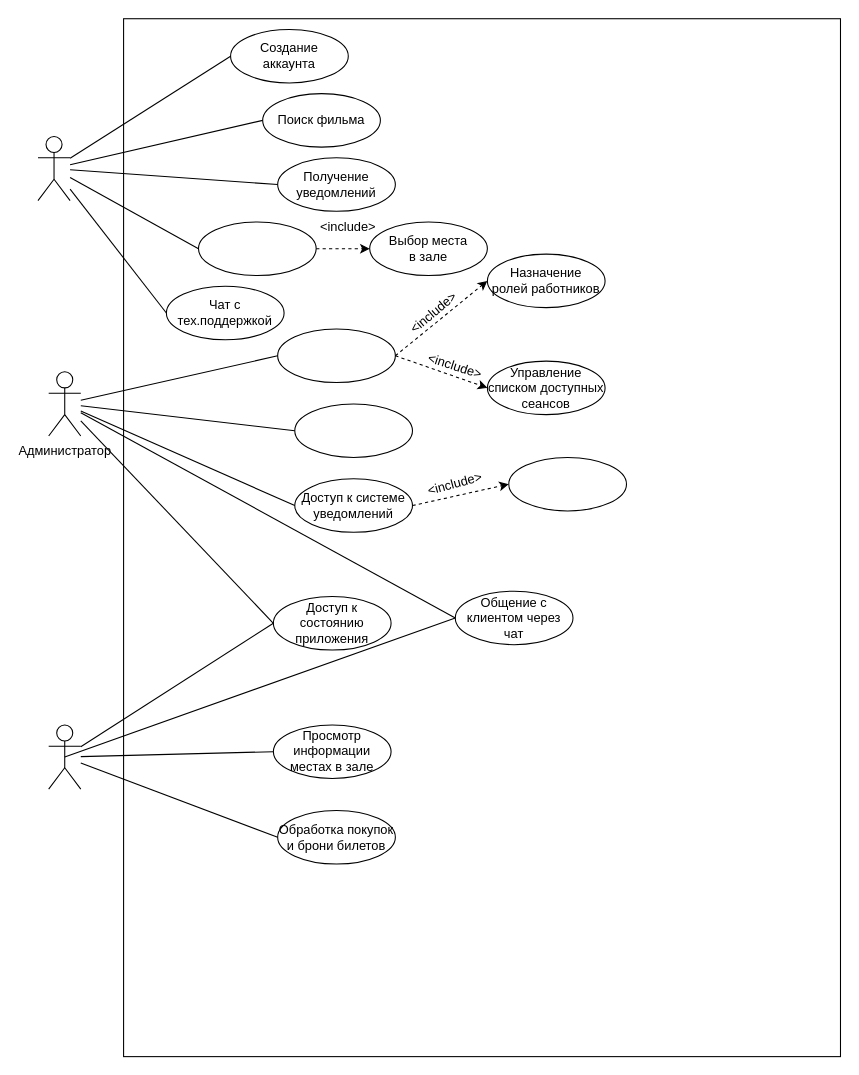
Image size: 859x1075. Some labels were removed from this diagram. The shapes that lost their labels are listed below. From the top down, each one's centre as x and y in pixels, then its label:
At (53,168): "Клиент".
At (256,248): "Бронирование билета".
At (336,355): "Доступ к панели управления".
At (353,430): "Просмотр статистики".
At (567,483): "Рассылка акций и предложений".
At (64,756): "Оператор".
